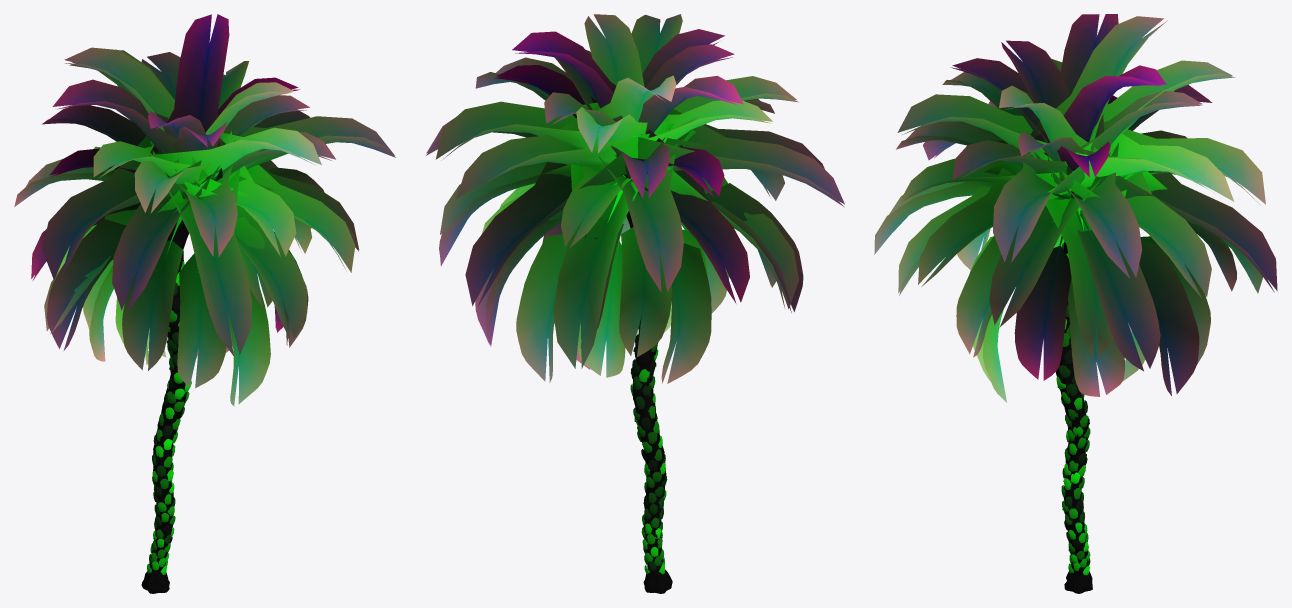
Rendered from mv_PalmA.fbx.
The picture shows the model from 3 angles, left to right: view 1: azimuth 30°, elevation 25°; view 2: azimuth 150°, elevation 25°; view 3: azimuth 270°, elevation 25°; orthographic projection. The views are drawn at different scales.
Parts seen in each view (by area): view 1: mv_PalmA_LOD0; view 2: mv_PalmA_LOD0; view 3: mv_PalmA_LOD0.
Boxes of the visible parts, x1,y1,x2,y2 form: mv_PalmA_LOD0: [14, 14, 395, 593]; mv_PalmA_LOD0: [426, 14, 844, 593]; mv_PalmA_LOD0: [874, 14, 1277, 593].
Size of what is drawn, in the model's own units: 426 by 617 by 402.
